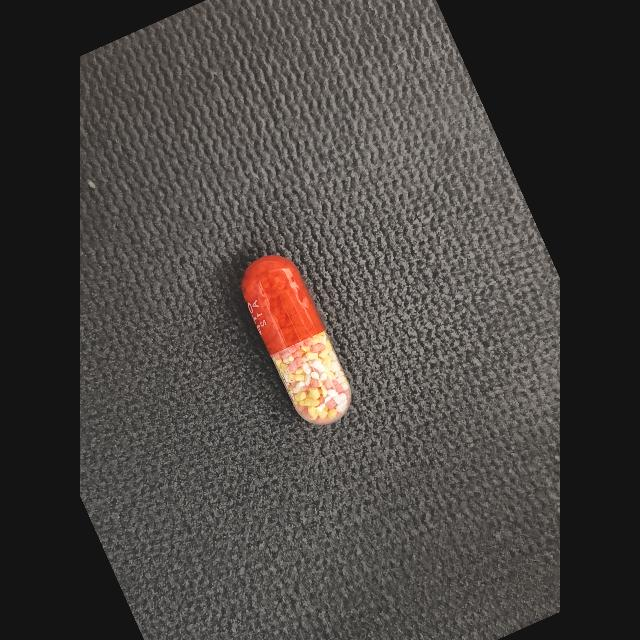Intact Capsule: (242, 255, 351, 425)
